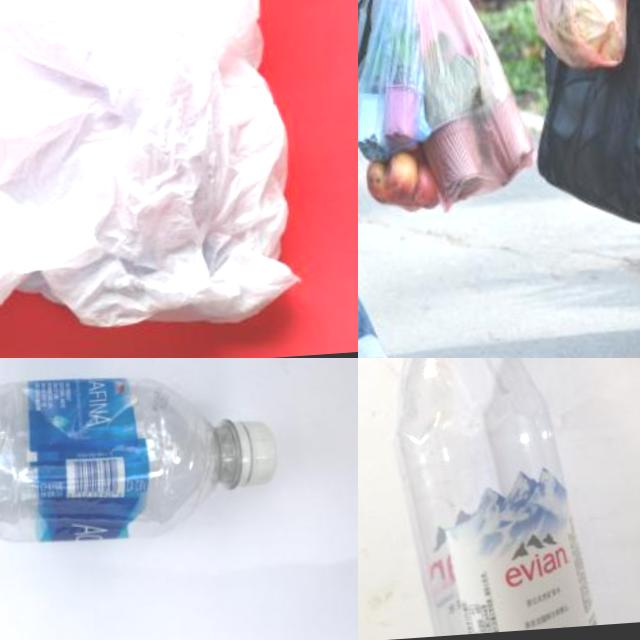garrafa plástica: (384, 358, 598, 638), (0, 362, 228, 567)
sacola plástica: (0, 0, 346, 346), (358, 0, 550, 246), (519, 0, 640, 254)
tampa plástica: (226, 419, 282, 488)
